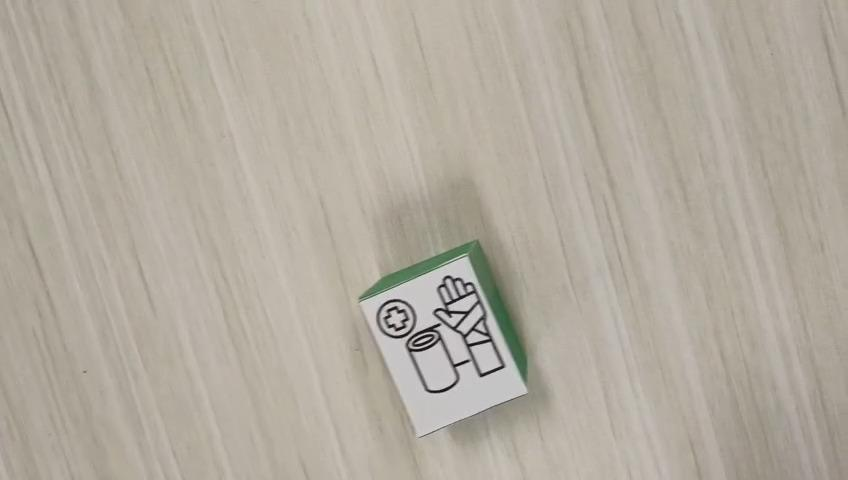Bandages: (357, 238, 529, 438)
